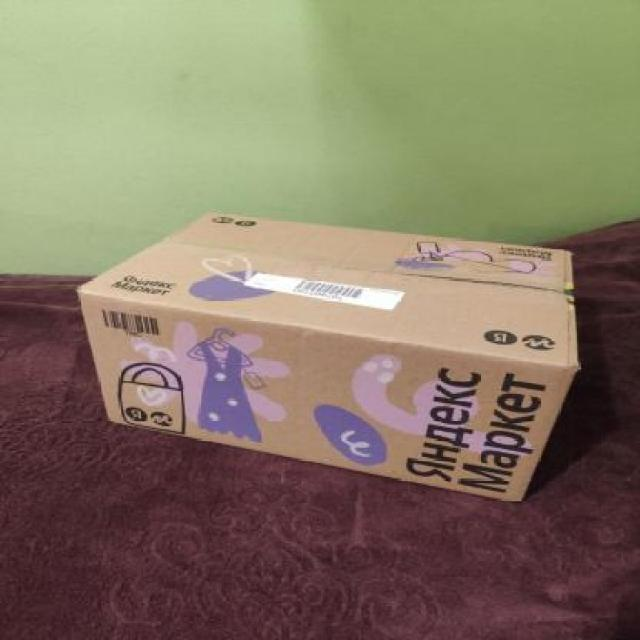box: (70, 204, 582, 512)
